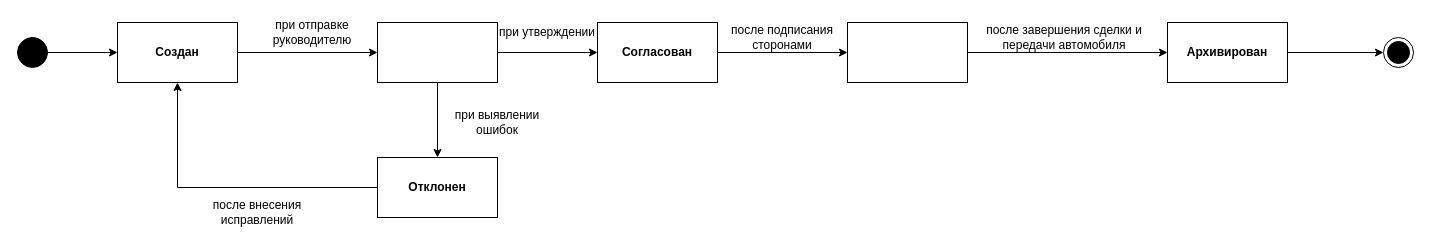
This 1431x244 diagram has some shape labels left out. The centre of each missing label's shape, as x and y in pixels:
"На согласовании" belongs at pixel 437 52.
"Подписан" belongs at pixel 907 52.
